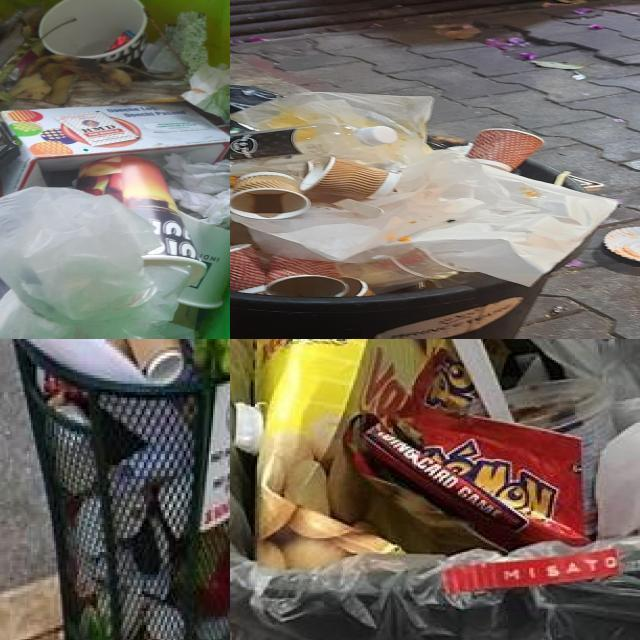Disposable: (505, 378, 617, 518), (336, 245, 459, 291)
Garbage: (237, 339, 640, 568), (230, 86, 616, 297), (0, 0, 230, 339)
Plastic: (261, 283, 265, 285)
Plastic_Bag: (0, 187, 195, 339), (230, 92, 435, 162), (391, 151, 541, 222)
Plastic_Straw: (450, 339, 514, 422), (555, 171, 572, 185)
Plastic_bottle: (230, 123, 397, 172)
Plastic_wraper: (346, 350, 587, 548), (0, 37, 44, 85)
